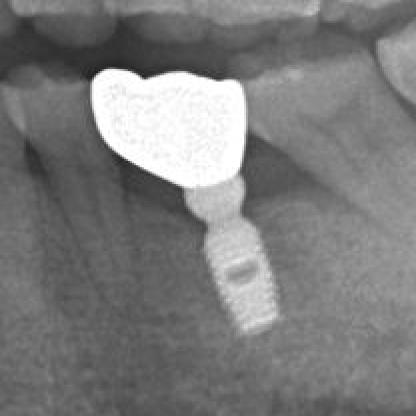Bicon: (176, 210, 308, 348)
